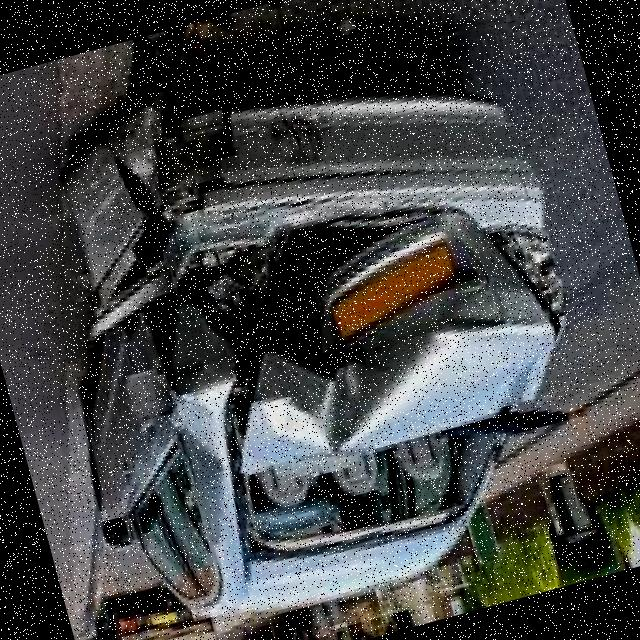Severe Damage: (48, 33, 530, 510)
